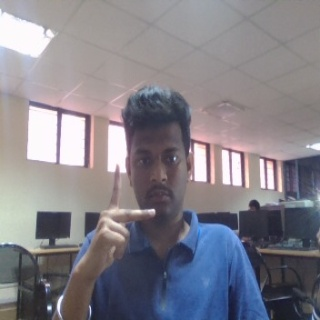Okay: (82, 164, 157, 280)
